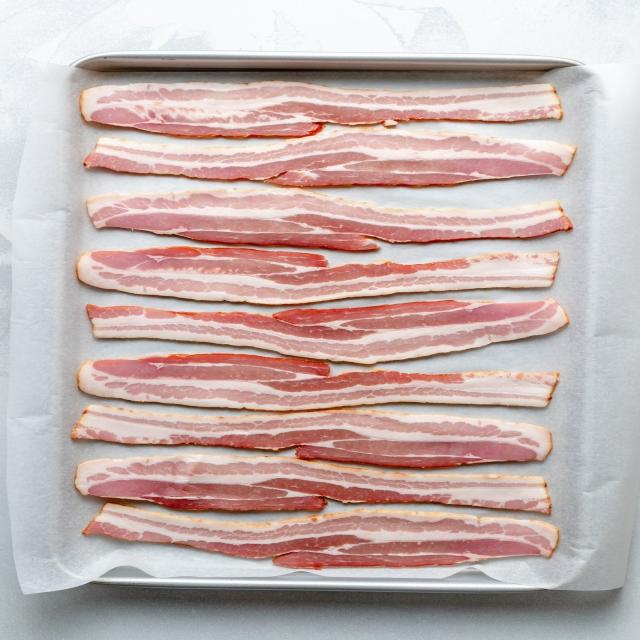Bacon: (86, 299, 568, 364), (84, 504, 559, 568), (71, 405, 553, 468), (86, 189, 572, 251), (75, 454, 551, 514), (84, 128, 575, 186), (77, 246, 559, 305), (77, 354, 559, 411), (81, 81, 562, 138)
